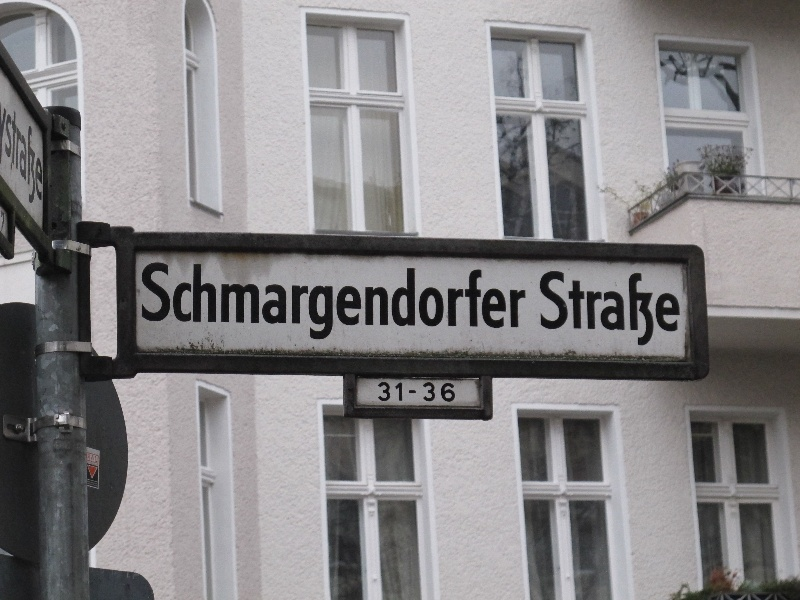text: (1, 102, 16, 216), (17, 102, 32, 216), (33, 102, 45, 216), (545, 270, 560, 350), (561, 270, 576, 350), (577, 270, 592, 350), (593, 270, 608, 350), (609, 270, 624, 350), (625, 270, 640, 350), (641, 270, 656, 350), (657, 270, 672, 350), (145, 262, 160, 341), (161, 262, 176, 341), (177, 262, 192, 341), (193, 262, 208, 341), (209, 262, 224, 341), (225, 262, 240, 341), (241, 262, 256, 341), (257, 262, 272, 341), (273, 262, 288, 341), (289, 262, 304, 341), (305, 262, 320, 341), (321, 262, 336, 341), (337, 262, 352, 341), (353, 262, 368, 341), (369, 262, 384, 341), (385, 262, 400, 341), (401, 262, 416, 341), (417, 262, 432, 341), (433, 262, 448, 341), (449, 262, 464, 341), (465, 262, 480, 341), (481, 262, 496, 341), (497, 262, 512, 341), (513, 262, 527, 341), (673, 270, 681, 350), (540, 270, 544, 350), (385, 382, 400, 402), (401, 382, 416, 402), (417, 382, 432, 402), (433, 382, 448, 402), (142, 262, 144, 341), (449, 382, 456, 402), (378, 382, 384, 402), (88, 454, 96, 462), (88, 483, 96, 487), (97, 454, 98, 462), (97, 483, 98, 487)
